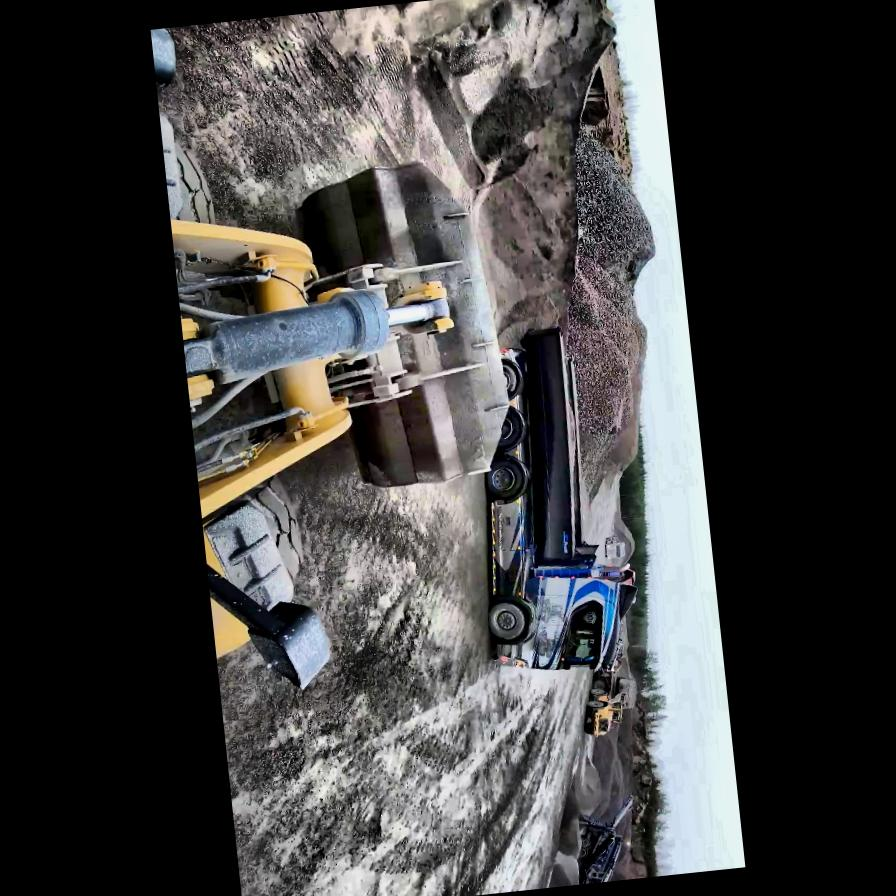anchor: (388, 281, 454, 338)
pile of gravel: (407, 0, 648, 350), (540, 130, 681, 507), (571, 662, 669, 884), (530, 754, 618, 888), (542, 846, 583, 888), (609, 512, 638, 568)
